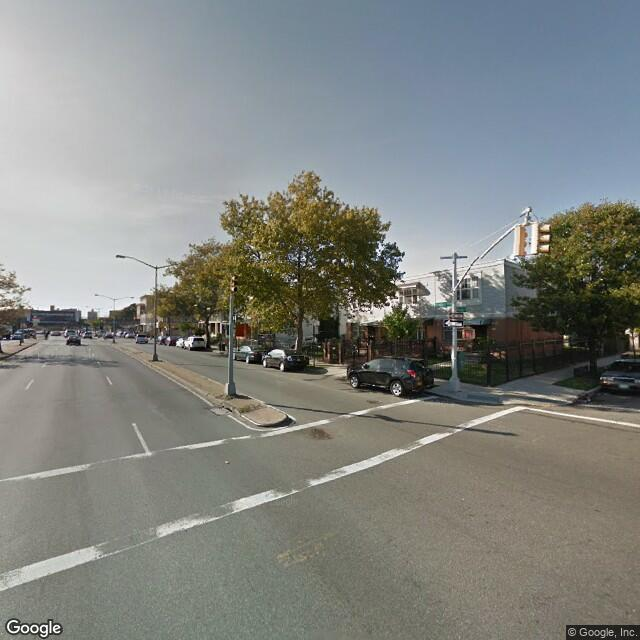litter: (226, 452, 253, 472)
